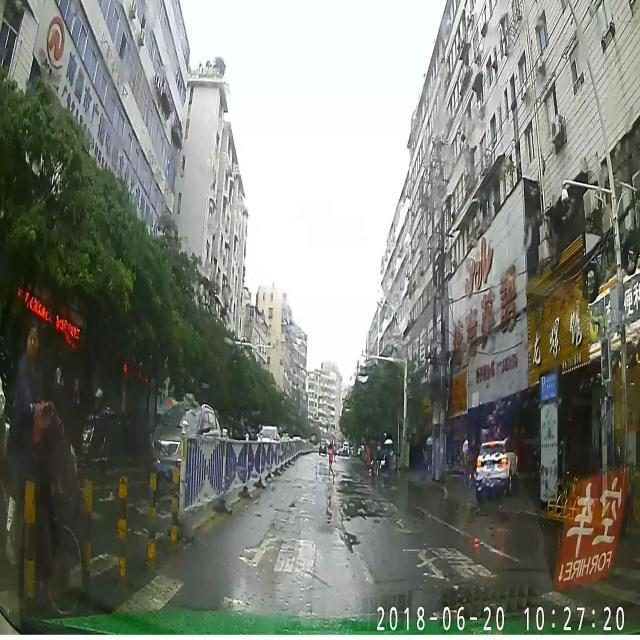car: (155, 401, 221, 488), (476, 436, 518, 495), (256, 424, 280, 458)
